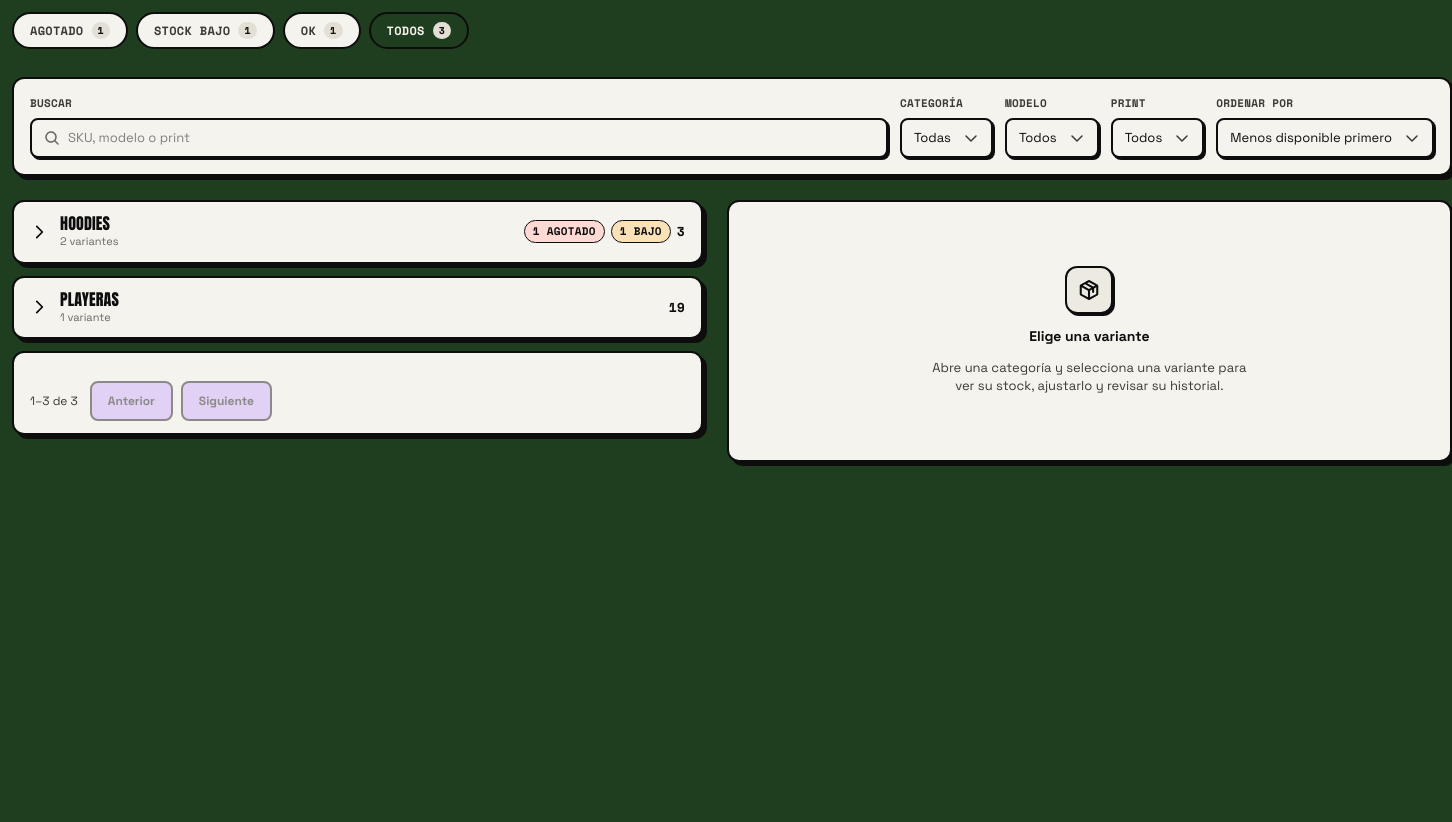
Test case: InventoryPage: categorías › el botón de flecha abre y cierra la categoría
Click the button "Hoodies 2 variantes 1 agotado 1 bajo 3".
click(85, 223)  # box [14, 202, 701, 262]
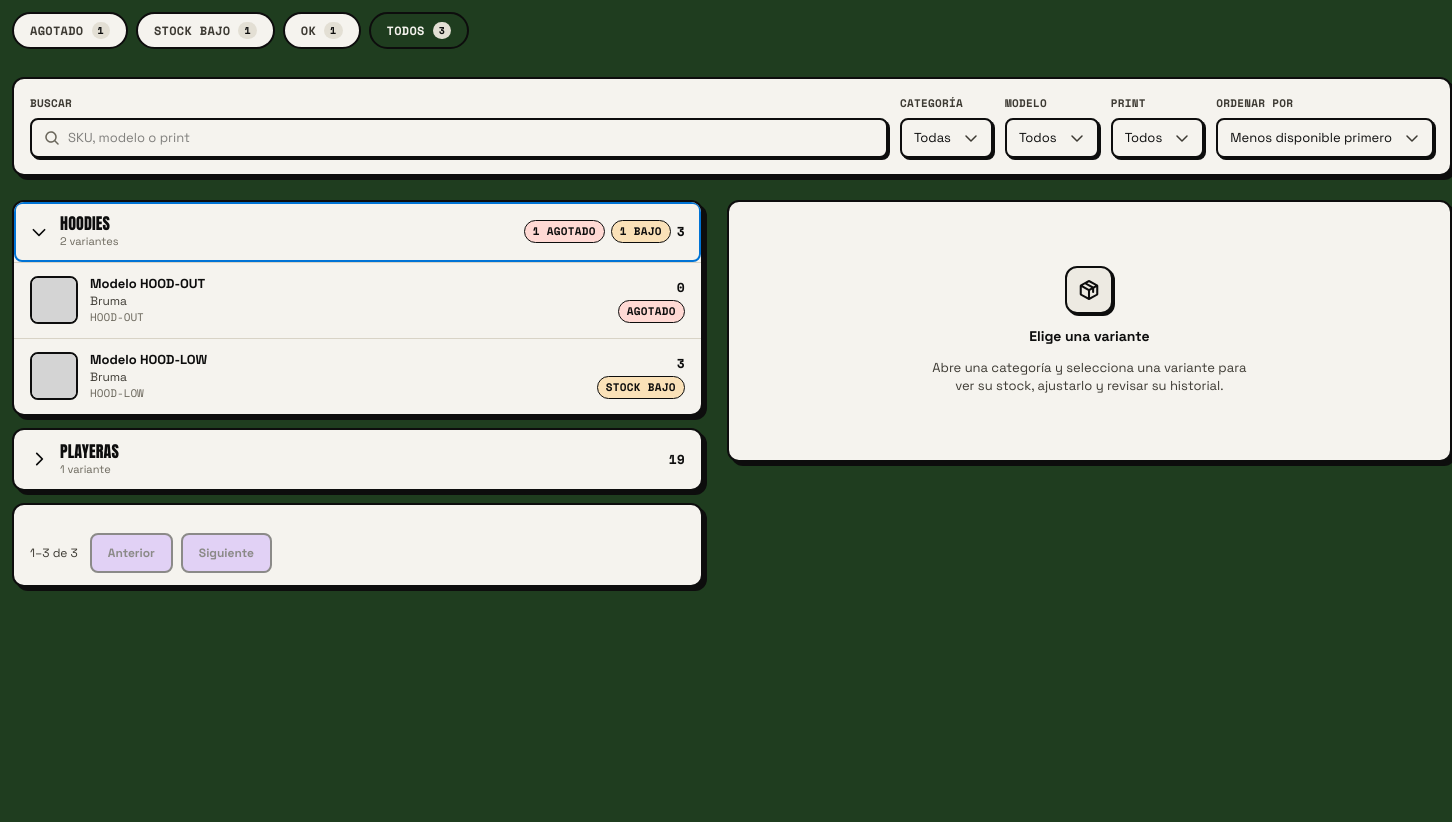
Now the button "Hoodies 2 variantes 1 agotado 1 bajo 3" is expanded
Now the text "HOOD-OUT" is shown, box [90, 309, 144, 325]
Now the text "HOOD-LOW" is shown, box [90, 385, 144, 401]
Click the button "Hoodies 2 variantes 1 agotado 1 bajo 3".
click(85, 223)  # box [14, 202, 701, 262]
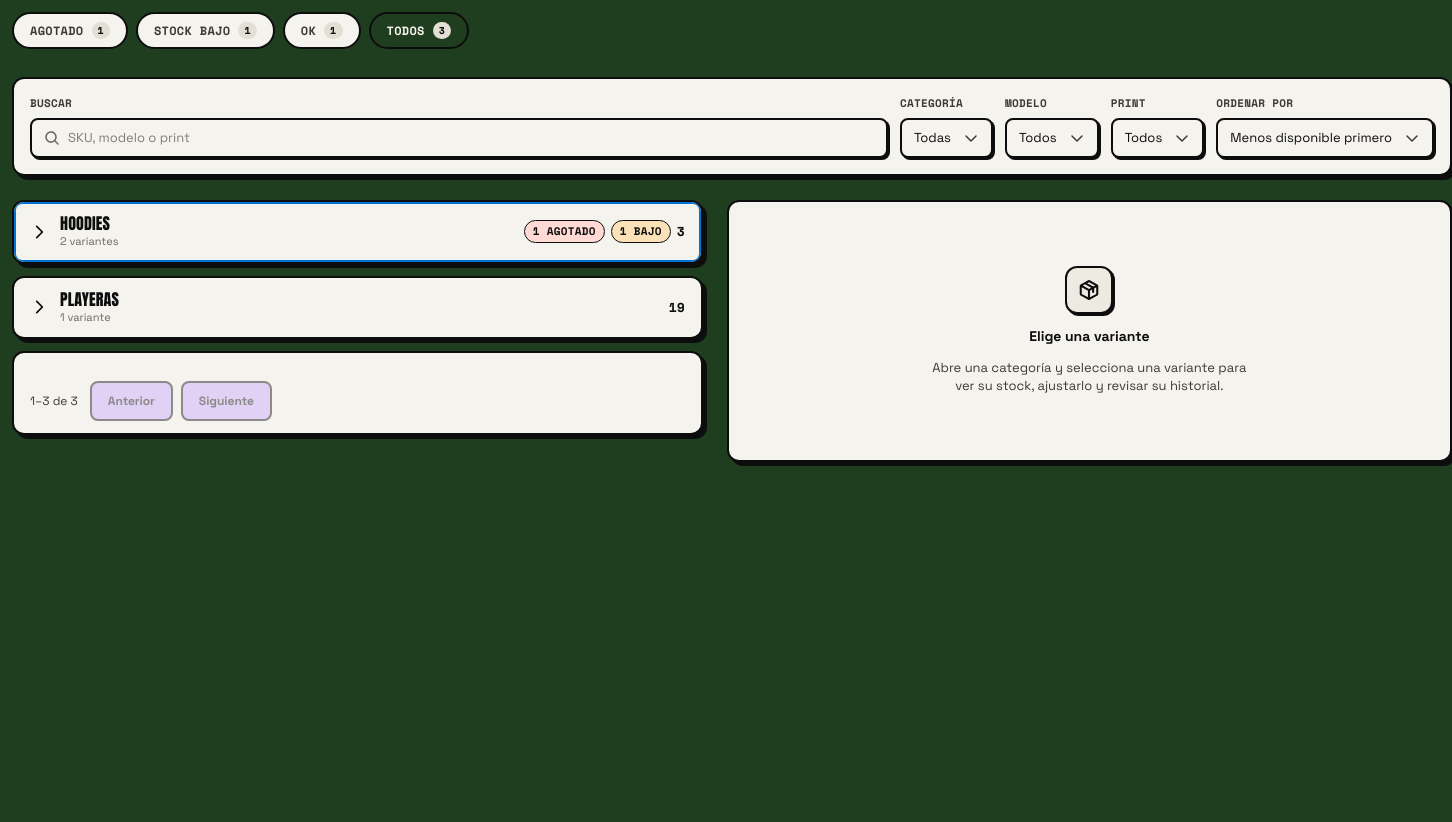
Now the button "Hoodies 2 variantes 1 agotado 1 bajo 3" is collapsed, box [14, 202, 701, 262]
Now the button "HOOD-OUT" is gone
